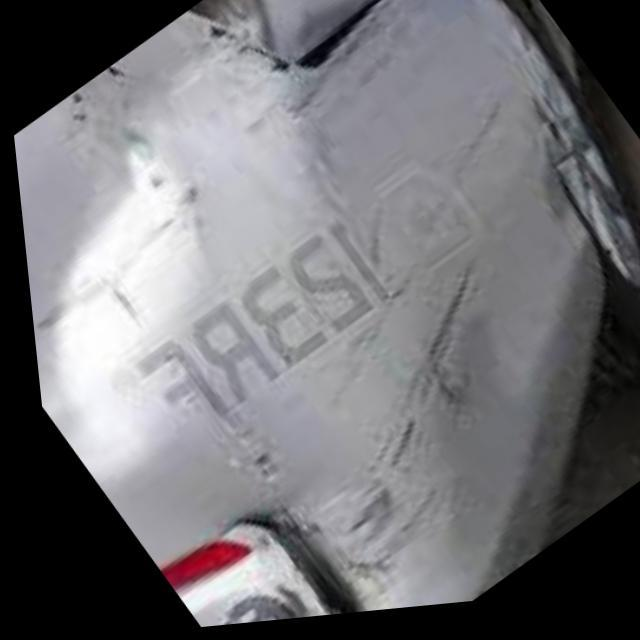dent: (11, 85, 209, 475)
rub: (151, 0, 472, 630)
